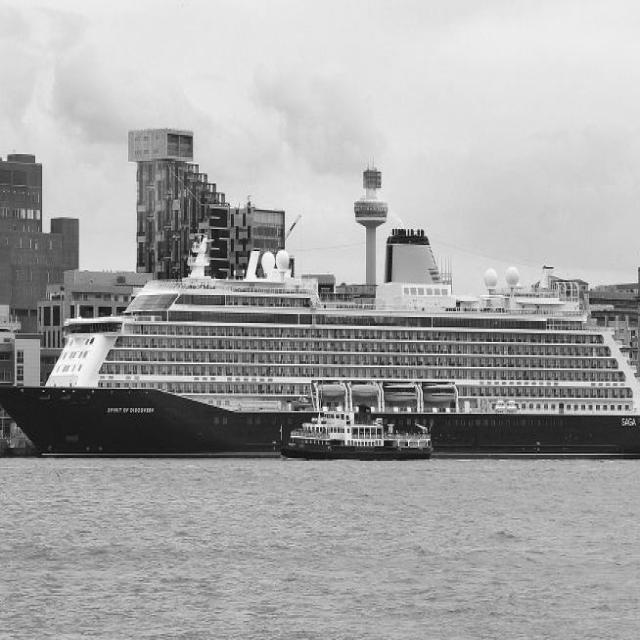cruises: (1, 214, 640, 469)
